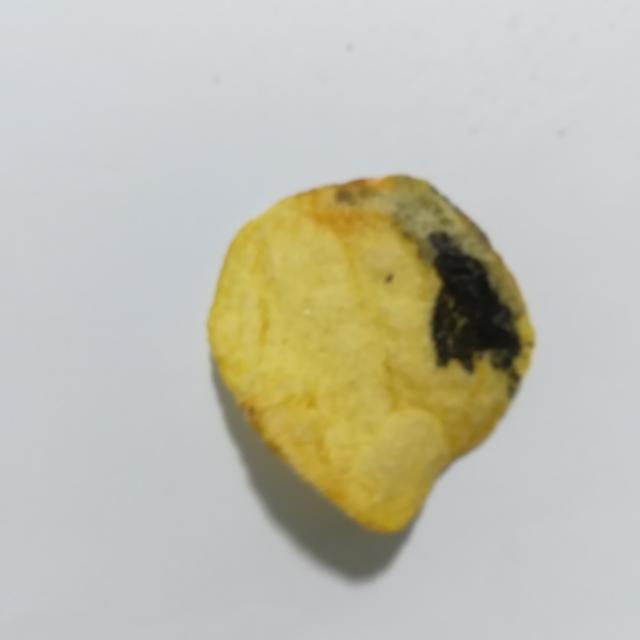chip: (208, 176, 534, 532)
damaged: (429, 232, 521, 397)
semi-damaged: (339, 175, 525, 319)
